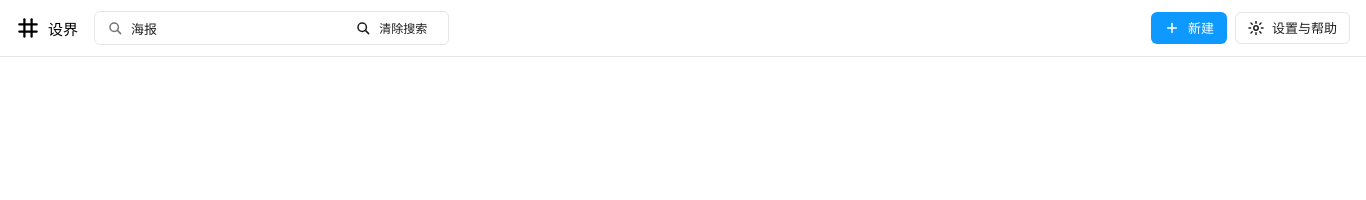
Scenario: HomeTopbar · 全局搜索（B9） › 输入后出下拉，并给出两条结果线（本地文档 / 技能市场）
Click the search field named "搜索文件与技能资产": (235, 28) [131, 12, 338, 44]
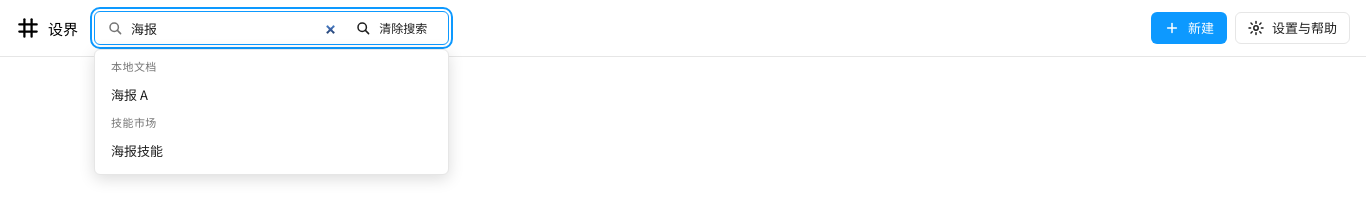
Expected: the text "本地文档" is shown, [111, 58, 157, 74]
Expected: the text "技能市场" is shown, [111, 114, 157, 130]
Expected: the menu item "海报 A" is shown, [103, 78, 440, 110]
